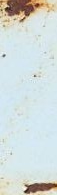Corrosion: (1, 1, 57, 27), (24, 182, 57, 195)
